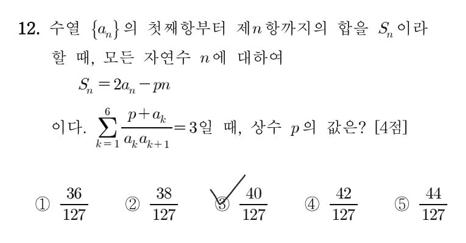1: (209, 177, 240, 217)
paper: (392, 195, 411, 215), (302, 195, 321, 215), (213, 195, 232, 215), (123, 194, 142, 214), (34, 195, 53, 215)
